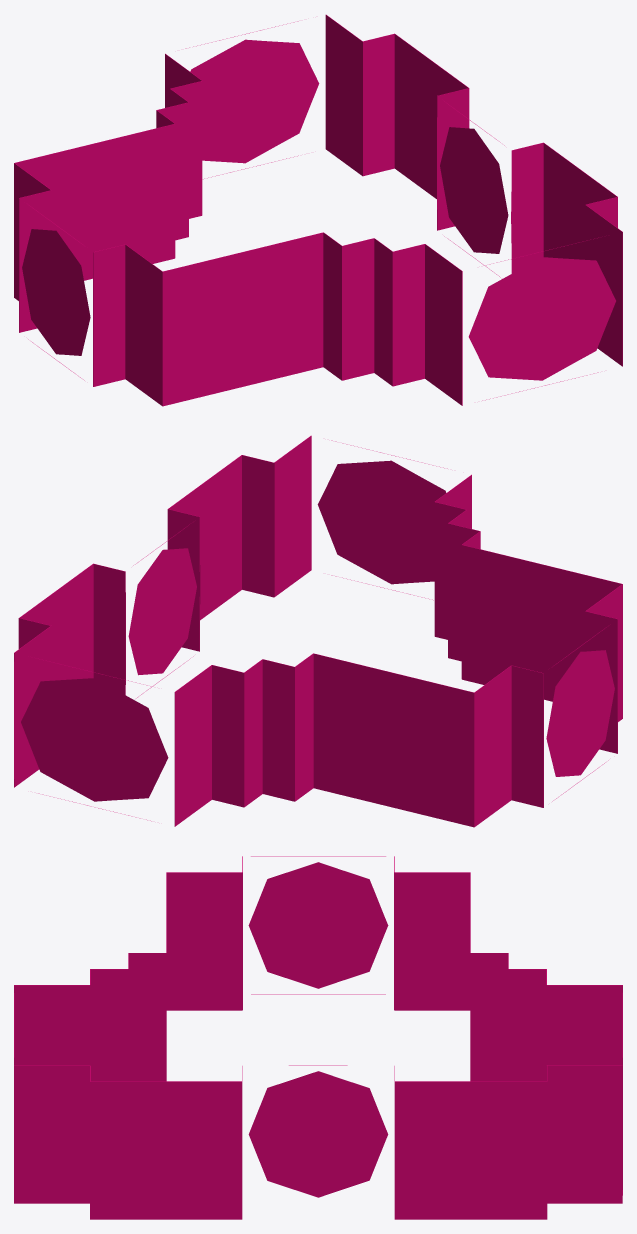
The model's file is walls33.glb.
3 renders of one model, top to bottom at view 1: azimuth 30°, elevation 25°; view 2: azimuth 150°, elevation 25°; view 3: azimuth 270°, elevation 25°, orthographic. The views are drawn at different scales.
Visible parts, largest first — view 1: wall16, wall10.001, wall10, Cube.001, wall5, wall2225, wall3, wall1, wall11.004, wall11, wall7, wall14 (+13 smaller); view 2: wall10.001, wall16, Cube.001, wall10, wall5, wall2225, wall7, wall9, 1111.001, wall11.005, wall3, wall8.003 (+14 smaller); view 3: wall3, wall7, wall2225, wall5, wall11.005, wall11.004, wall1, wall9, 1111.001, wall11, wall11.003, wall15 (+2 smaller).
Boxes of the visible parts, box(x1,y1,x2,y2) form: wall16: box(162, 232, 323, 406); wall10.001: box(14, 124, 174, 297); wall10: box(468, 237, 615, 400); Cube.001: box(185, 21, 319, 179); wall5: box(437, 101, 511, 277); wall2225: box(22, 205, 93, 380); wall3: box(394, 34, 469, 198); wall1: box(325, 14, 363, 176); wall11.004: box(125, 244, 162, 406); wall11: box(425, 244, 462, 405); wall7: box(543, 143, 617, 259); wall14: box(341, 238, 374, 380); wall10.001: box(313, 653, 474, 827); wall16: box(462, 545, 622, 718); Cube.001: box(14, 658, 168, 821); wall10: box(317, 440, 447, 600); wall5: box(125, 524, 200, 698); wall2225: box(543, 627, 614, 801); wall7: box(167, 455, 241, 620); wall9: box(274, 435, 311, 597); 1111.001: box(174, 665, 211, 826); wall11.005: box(474, 665, 511, 826); wall3: box(19, 563, 93, 680); wall8.003: box(262, 659, 295, 801); wall3: box(394, 1081, 546, 1219); wall7: box(90, 1081, 242, 1219); wall2225: box(248, 856, 388, 994); wall5: box(248, 1065, 388, 1197); wall11.005: box(394, 872, 470, 1010); wall11.004: box(166, 872, 242, 1010); wall1: box(546, 1065, 622, 1203); wall9: box(14, 1065, 89, 1203); 1111.001: box(547, 985, 622, 1078); wall11: box(14, 985, 89, 1065); wall11.003: box(470, 953, 508, 1081); wall15: box(128, 953, 166, 1081).
Size of the model in its own units: 224 by 64 by 256.
